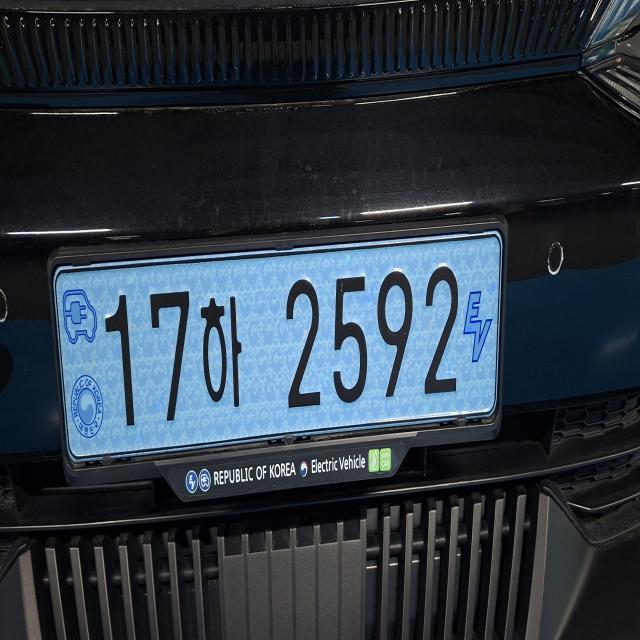car: (44, 197, 536, 525)
carev: (56, 278, 107, 466), (460, 251, 495, 397)
